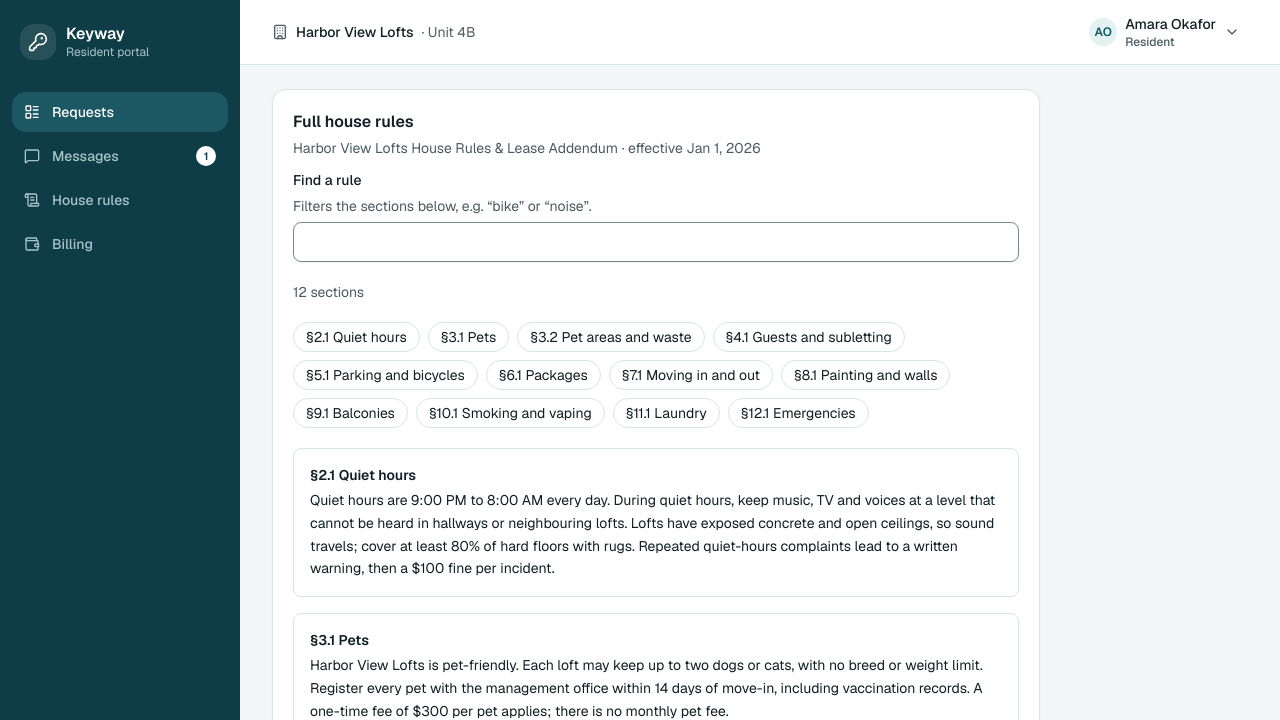
RulesDocument › filters sections and highlights the match
Type "bike" into the search field labelled "Find a rule".
click(656, 242); type("bike")  # box [293,222,1019,262]
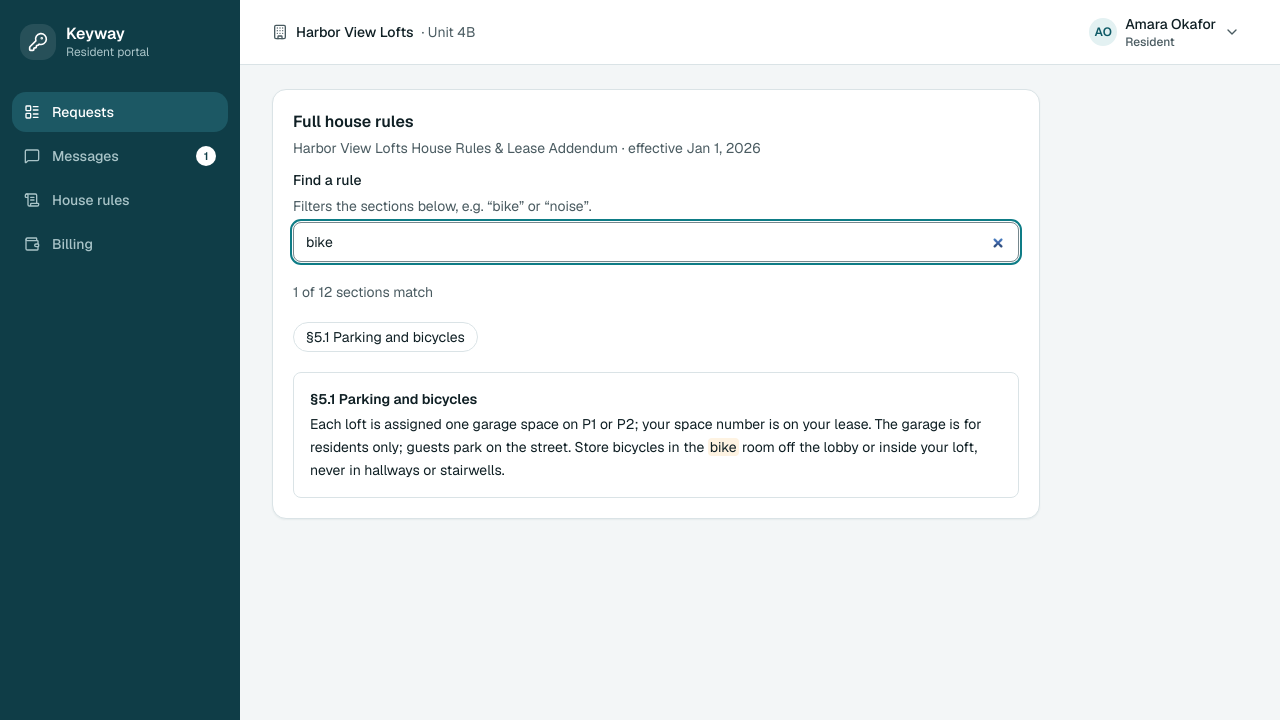
Expected: the text "1 of 12 sections match" is shown, [293,283,433,301]
Replace the text in the search field labelled "Find a rule" with "trampoline" at (656, 242), box [293,222,1019,262]
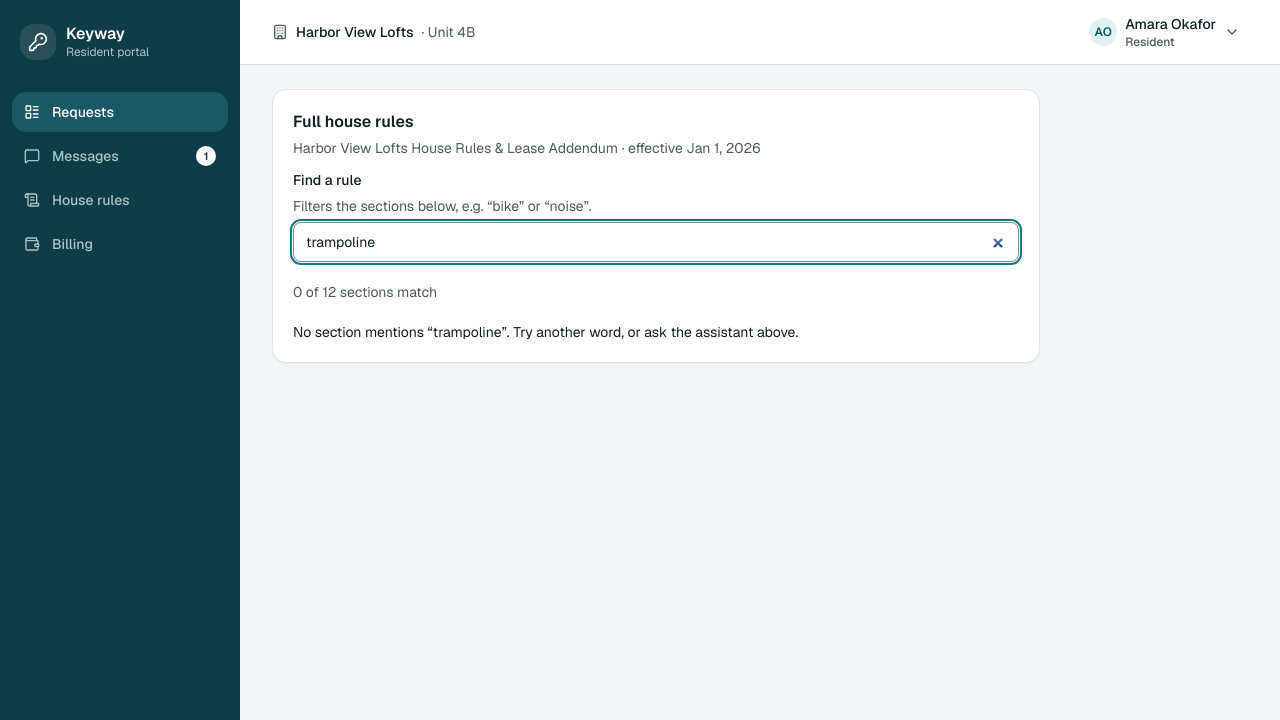
Expected: the text "No section mentions “trampoline”" is shown, [293,323,798,341]
